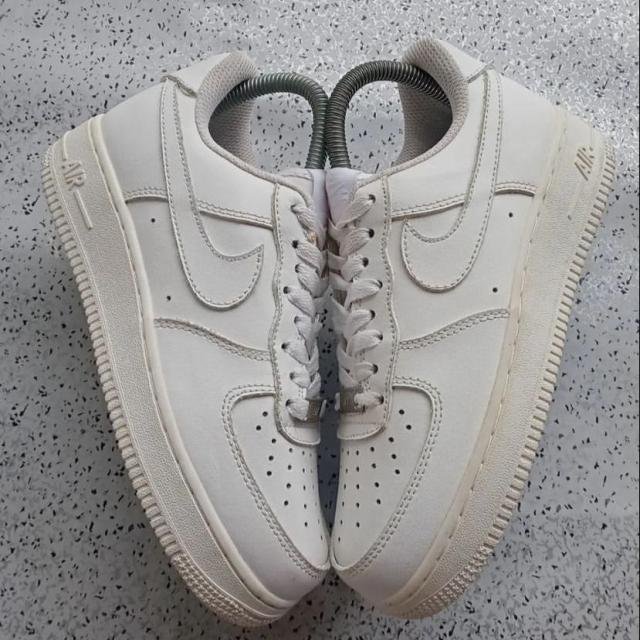nike original air force: (313, 44, 616, 622), (39, 50, 334, 632)
